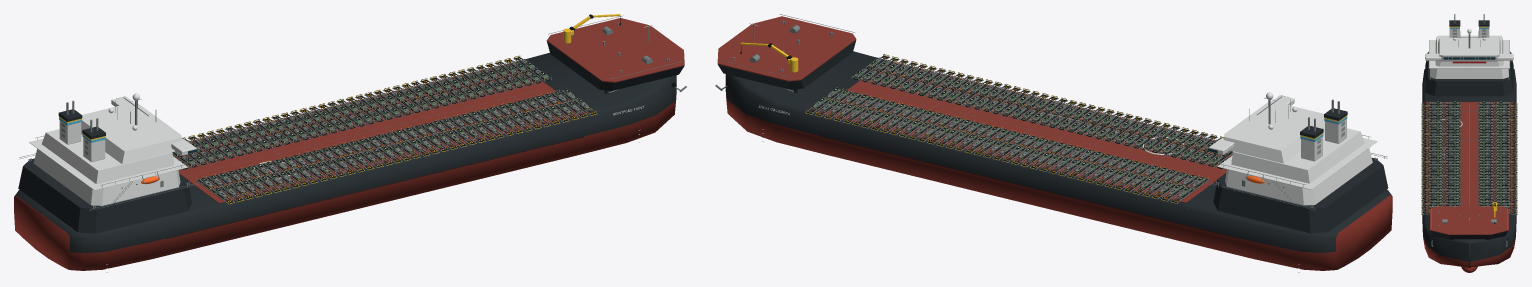
The model's file is montford-point-static.glb.
3 renders of one model, left to right at view 1: azimuth 30°, elevation 25°; view 2: azimuth 150°, elevation 25°; view 3: azimuth 270°, elevation 25°, orthographic. The views are drawn at different scales.
Parts seen in each view (by area): view 1: HULL_PRIMARY_TRUE_SCALE, MISSION_DECK, FORECASTLE_DECK, AFT_CAISSON, BRIDGE_BLOCK, ACCOMMODATION_UPPER, ACCOMMODATION_LOWER, FORECASTLE_CAISSON, AFT_WALKWAY_DECK, BOOT_TOP_STARBOARD, STACK_PORT_LOWER, STACK_STARBOARD_LOWER; view 2: HULL_PRIMARY_TRUE_SCALE, MISSION_DECK, FORECASTLE_DECK, AFT_CAISSON, BRIDGE_BLOCK, ACCOMMODATION_UPPER, ACCOMMODATION_LOWER, FORECASTLE_CAISSON, AFT_WALKWAY_DECK, BOOT_TOP_PORT, STACK_PORT_LOWER, STACK_STARBOARD_LOWER; view 3: HULL_PRIMARY_TRUE_SCALE, MISSION_DECK, FORECASTLE_DECK, AFT_CAISSON, BRIDGE_BLOCK, ACCOMMODATION_LOWER, ACCOMMODATION_UPPER, AFT_WALKWAY_DECK, FORECASTLE_CAISSON, BRIDGE_FRONT_GLAZING, BRIDGE_WING_STARBOARD, BRIDGE_WING_PORT (+7 smaller).
Boxes of the visible parts, left/top/right/bottom form: HULL_PRIMARY_TRUE_SCALE: left=14, top=52, right=676, bottom=270; MISSION_DECK: left=173, top=61, right=596, bottom=203; FORECASTLE_DECK: left=546, top=18, right=684, bottom=82; AFT_CAISSON: left=18, top=158, right=191, bottom=233; BRIDGE_BLOCK: left=81, top=102, right=181, bottom=164; ACCOMMODATION_UPPER: left=42, top=129, right=173, bottom=184; ACCOMMODATION_LOWER: left=33, top=149, right=180, bottom=205; FORECASTLE_CAISSON: left=547, top=42, right=684, bottom=90; AFT_WALKWAY_DECK: left=29, top=138, right=187, bottom=190; BOOT_TOP_STARBOARD: left=166, top=136, right=583, bottom=238; STACK_PORT_LOWER: left=59, top=120, right=81, bottom=144; STACK_STARBOARD_LOWER: left=83, top=137, right=105, bottom=162; HULL_PRIMARY_TRUE_SCALE: left=725, top=51, right=1392, bottom=270; MISSION_DECK: left=806, top=58, right=1232, bottom=202; FORECASTLE_DECK: left=717, top=16, right=856, bottom=81; AFT_CAISSON: left=1213, top=158, right=1388, bottom=233; BRIDGE_BLOCK: left=1223, top=101, right=1324, bottom=163; ACCOMMODATION_UPPER: left=1231, top=128, right=1364, bottom=183; ACCOMMODATION_LOWER: left=1225, top=148, right=1372, bottom=205; FORECASTLE_CAISSON: left=718, top=40, right=856, bottom=89; AFT_WALKWAY_DECK: left=1217, top=137, right=1377, bottom=189; BOOT_TOP_PORT: left=819, top=135, right=1239, bottom=238; STACK_PORT_LOWER: left=1301, top=136, right=1322, bottom=161; STACK_STARBOARD_LOWER: left=1325, top=119, right=1346, bottom=143; HULL_PRIMARY_TRUE_SCALE: left=1422, top=69, right=1516, bottom=267; MISSION_DECK: left=1425, top=102, right=1513, bottom=214; FORECASTLE_DECK: left=1430, top=206, right=1508, bottom=234; AFT_CAISSON: left=1425, top=52, right=1513, bottom=96; BRIDGE_BLOCK: left=1438, top=37, right=1500, bottom=61; ACCOMMODATION_LOWER: left=1430, top=68, right=1508, bottom=78; ACCOMMODATION_UPPER: left=1435, top=35, right=1503, bottom=66; AFT_WALKWAY_DECK: left=1429, top=40, right=1509, bottom=68; FORECASTLE_CAISSON: left=1430, top=230, right=1508, bottom=239; BRIDGE_FRONT_GLAZING: left=1443, top=57, right=1495, bottom=59; BRIDGE_WING_STARBOARD: left=1425, top=53, right=1441, bottom=60; BRIDGE_WING_PORT: left=1497, top=53, right=1513, bottom=60.
Size of the model in its own units: 239 by 50.45 by 51.21.
